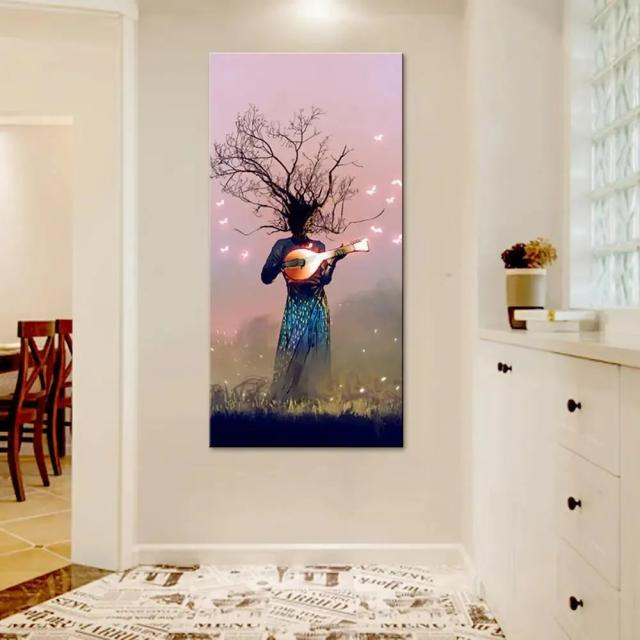painting: (210, 52, 405, 448)
